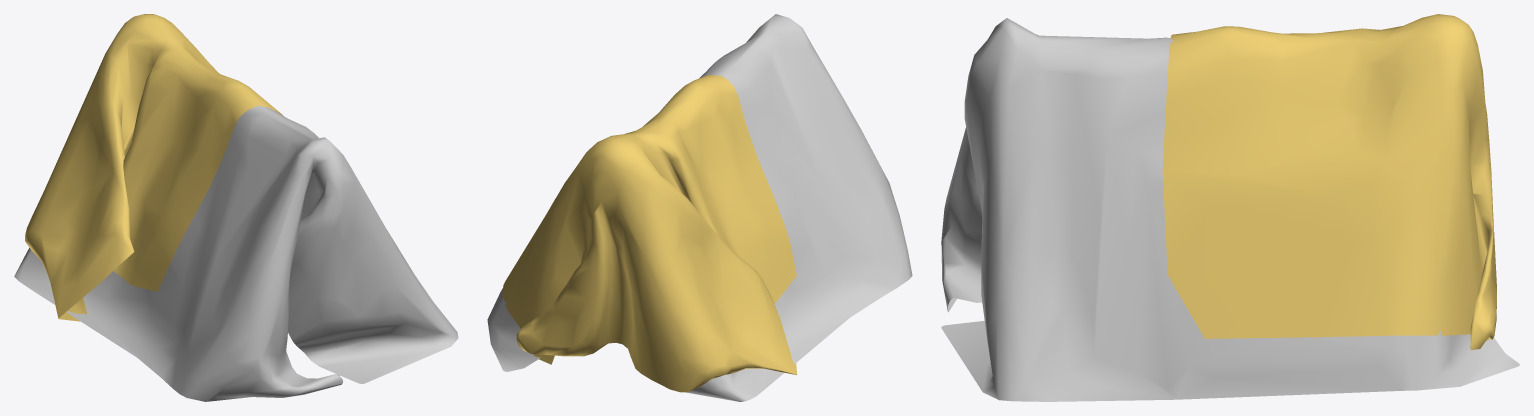
The model's file is tent_test_low.fbx.
3 views of the same model, side by side, from view 1: azimuth 30°, elevation 25°; view 2: azimuth 150°, elevation 25°; view 3: azimuth 270°, elevation 25° (orthographic). The views are drawn at different scales.
Parts seen in each view (by area): view 1: Plane, Plane_2; view 2: Plane_2, Plane; view 3: Plane_2, Plane.
Part boxes in pixels (<box>): Plane: <box>14,105,458,401</box>; Plane_2: <box>25,14,283,321</box>; Plane_2: <box>502,74,797,392</box>; Plane: <box>487,14,912,401</box>; Plane_2: <box>1162,14,1496,349</box>; Plane: <box>941,18,1519,401</box>.
Bounding box in the file's own units: 252 × 205 × 354.
